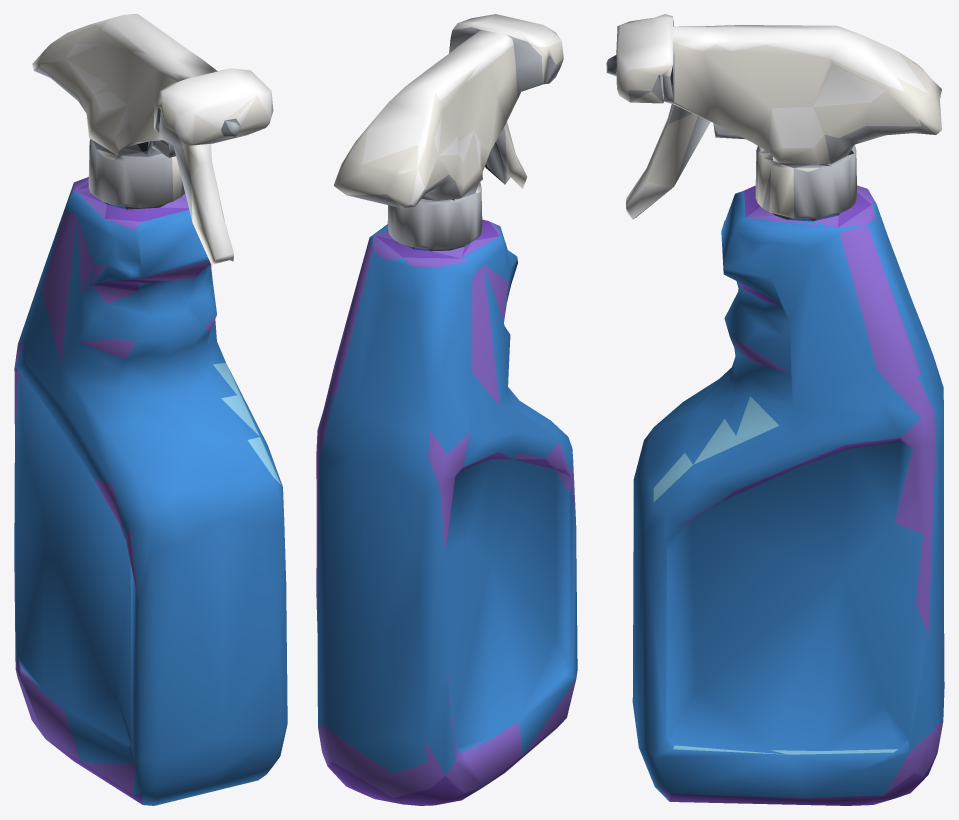
Rendered from SM_spray_bottle.fbx.
3 views of the same model, side by side, from view 1: azimuth 30°, elevation 25°; view 2: azimuth 150°, elevation 25°; view 3: azimuth 270°, elevation 25° (orthographic). The views are drawn at different scales.
Visible parts, largest first — view 1: SM_spray_bottle; view 2: SM_spray_bottle; view 3: SM_spray_bottle.
Boxes of the visible parts, x1=… form: SM_spray_bottle: x1=14, y1=14, x2=287, y2=805; SM_spray_bottle: x1=316, y1=14, x2=577, y2=805; SM_spray_bottle: x1=606, y1=14, x2=944, y2=805.
Size of the model in its own units: 7.29 by 30 by 12.31.
1 material, 1 textured.
